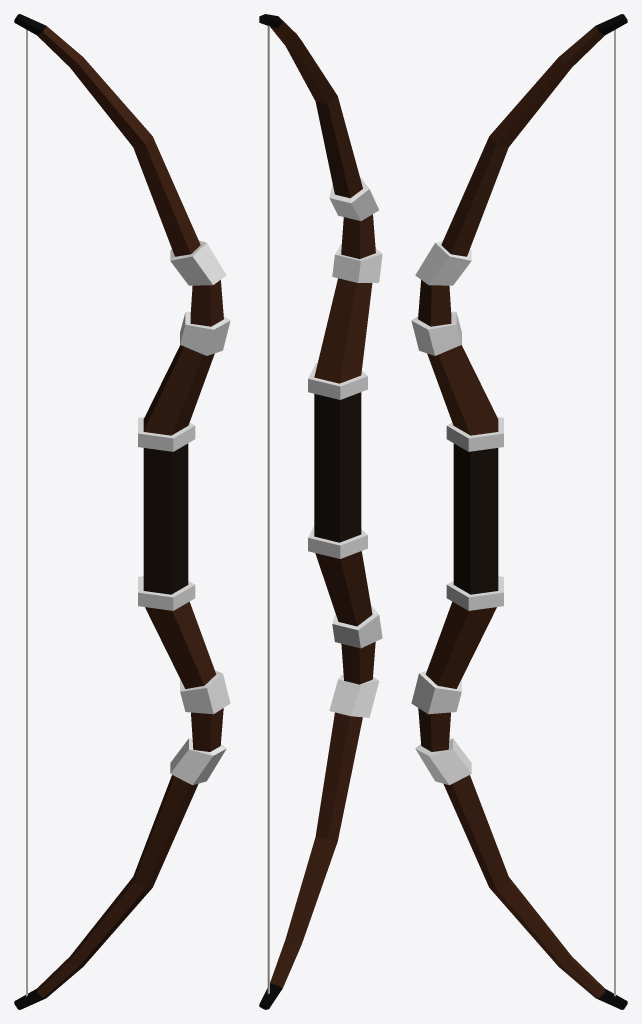
File: Bow.FBX
The picture shows the model from 3 angles, left to right: view 1: azimuth 90°, elevation 25°; view 2: azimuth 150°, elevation 25°; view 3: azimuth 270°, elevation 25°; orthographic projection.
Parts seen in each view (by area): view 1: Cylinder001; view 2: Cylinder001; view 3: Cylinder001.
Boxes of the visible parts, x1,y1,x2,y2 form: Cylinder001: (14, 14, 230, 1009); Cylinder001: (259, 14, 382, 1009); Cylinder001: (411, 14, 627, 1009).
Bounding box in the file's own units: 0.0886 × 1.62 × 0.3188.
